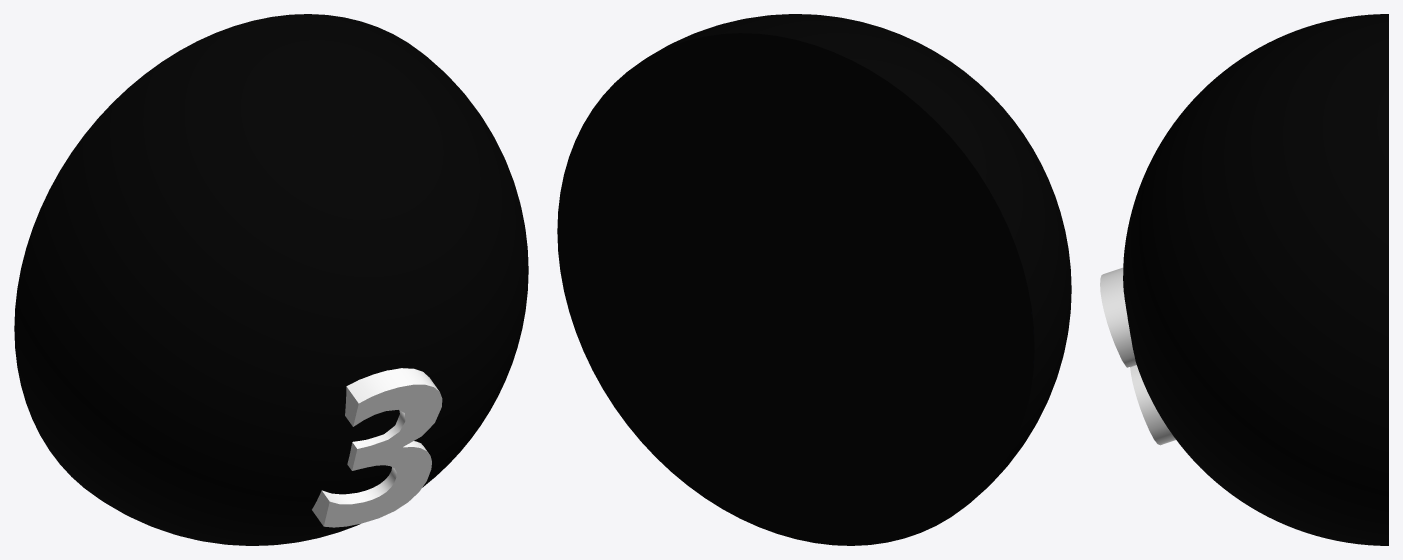
Rendered from button3.fbx.
3 views of the same model, side by side, from view 1: azimuth 30°, elevation 25°; view 2: azimuth 150°, elevation 25°; view 3: azimuth 270°, elevation 25° (orthographic). The views are drawn at different scales.
Visible parts, largest first — view 1: root, node_id324; view 2: root; view 3: root, node_id324.
Boxes of the visible parts, bbox=[...] form: root: bbox=[14, 14, 528, 545]; node_id324: bbox=[312, 368, 442, 527]; root: bbox=[557, 14, 1071, 545]; root: bbox=[1123, 14, 1388, 545]; node_id324: bbox=[1100, 267, 1175, 445].
Size of the model in its own units: 0.4739 by 0.4739 by 0.2572.
2 materials, 2 textured.
